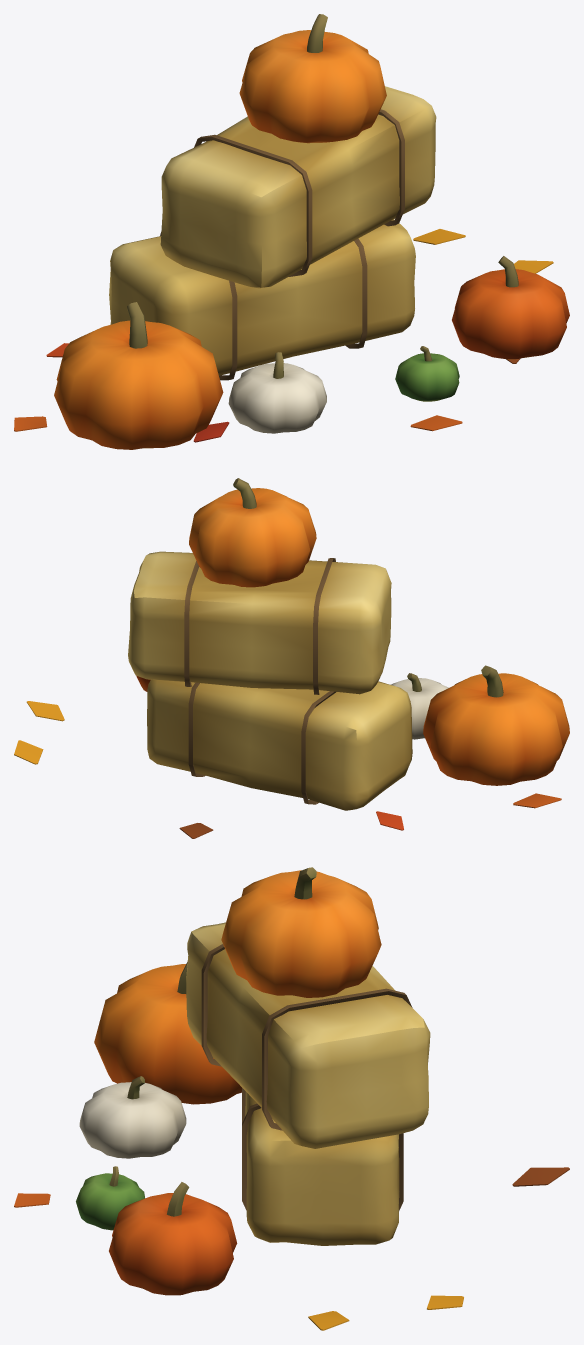
Rendered from pumpkin_pile.glb.
3 views of the same model, one above another, from view 1: azimuth 30°, elevation 25°; view 2: azimuth 150°, elevation 25°; view 3: azimuth 270°, elevation 25° (orthographic). The views are drawn at different scales.
Visible parts, largest first — view 1: pumpkin_pile; view 2: pumpkin_pile; view 3: pumpkin_pile.
Boxes of the visible parts, x1,y1,x2,y2 form: pumpkin_pile: (14,14,569,449); pumpkin_pile: (14,478,569,838); pumpkin_pile: (14,867,569,1330).
Bounding box in the file's own units: 2.4 × 1.29 × 1.84.
